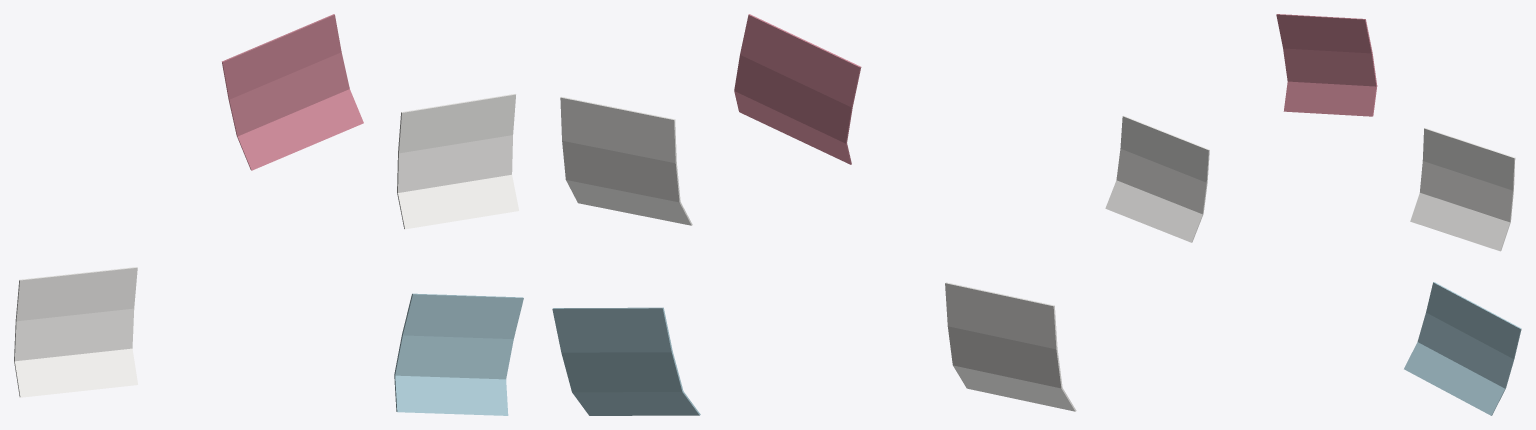
The model's file is Stickers_2.fbx.
3 renders of one model, left to right at view 1: azimuth 30°, elevation 25°; view 2: azimuth 150°, elevation 25°; view 3: azimuth 330°, elevation 25°, orthographic. The views are drawn at different scales.
Parts seen in each view (by area): view 1: Stickers_2; view 2: Stickers_2; view 3: Stickers_2.
Part boxes in pixels (x1,y1,x2,y2): Stickers_2: (14,14,523,415); Stickers_2: (552,14,1076,415); Stickers_2: (1105,14,1521,415).
Size of the model in its own units: 52.49 by 3.94 by 43.18.
